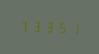five: (54, 20, 65, 34)
one: (66, 20, 77, 34)
seven: (18, 18, 29, 33)
three: (42, 19, 53, 34), (30, 19, 41, 33)
